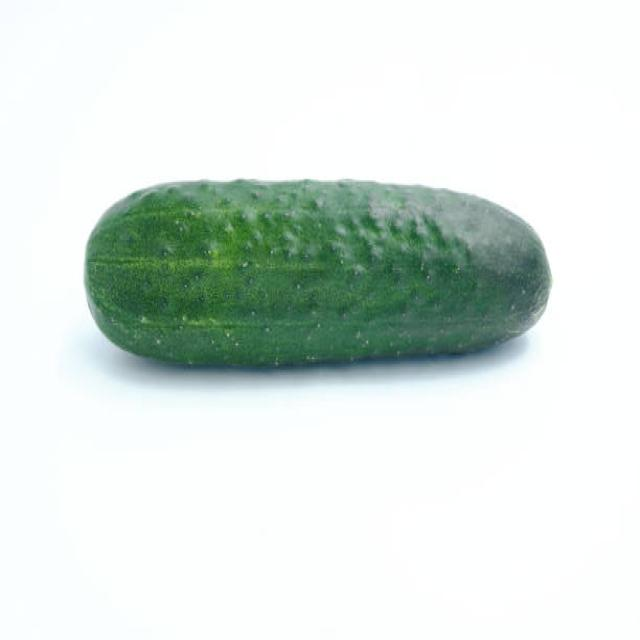cucumber: (75, 179, 552, 372)
